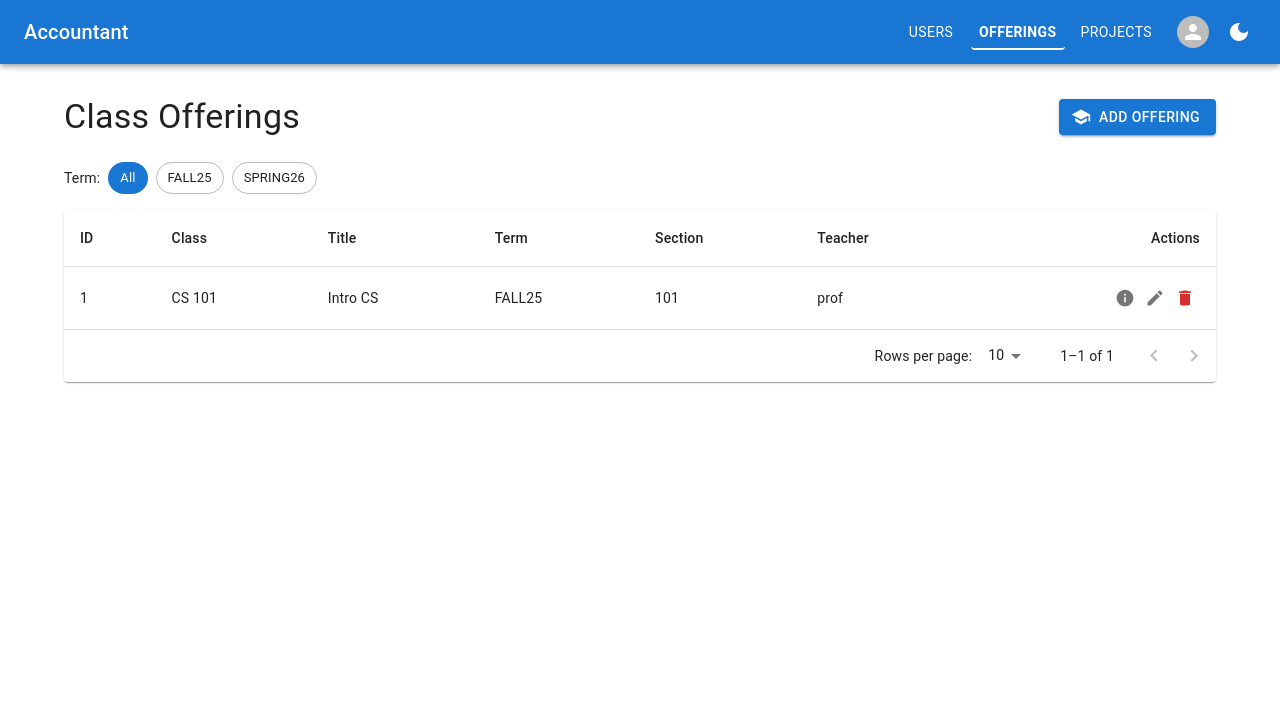
Test: Offerings page › closes the create modal when cancelled
The width and height of the screenshot is (1280, 720).
Expected: the heading "Class Offerings" is shown, x1=64 y1=96 x2=300 y2=138
Click the button "Add Offering" at (1137, 117), box x1=1059 y1=99 x2=1216 y2=135
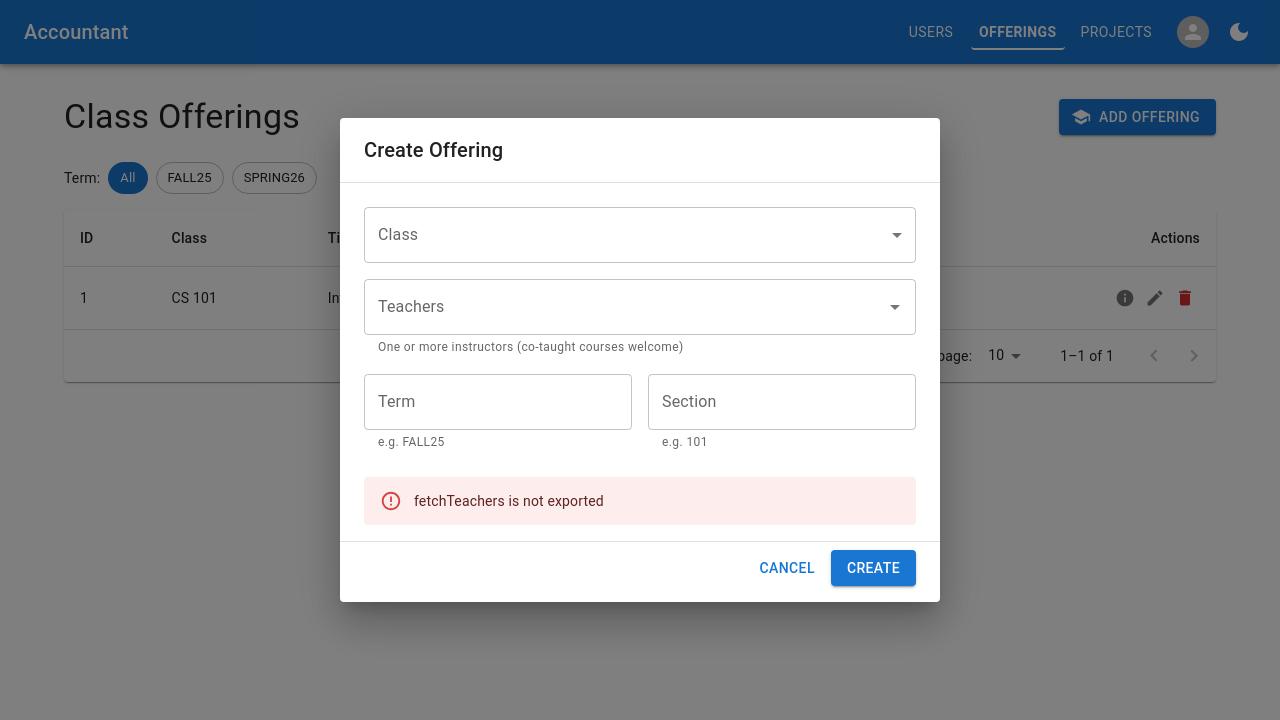
Click the button "Cancel" at (787, 568), box x1=751 y1=550 x2=823 y2=586
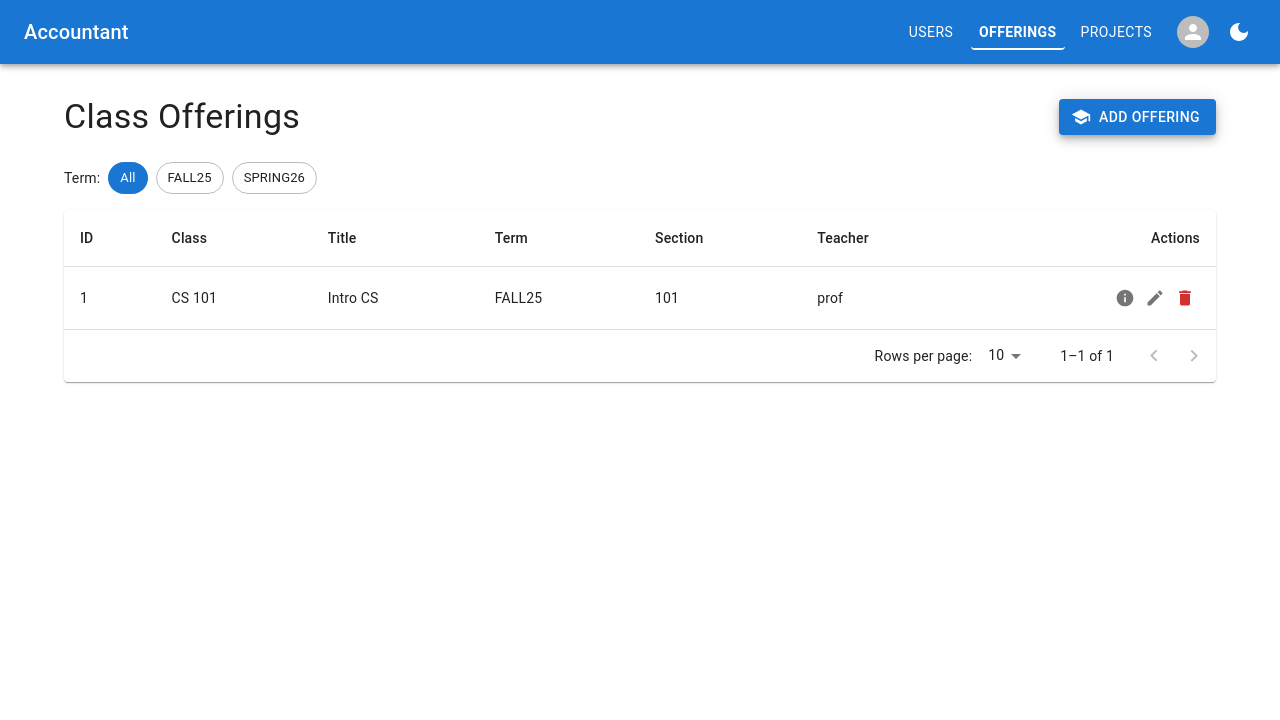
Expected: the heading "Create Offering" is gone
